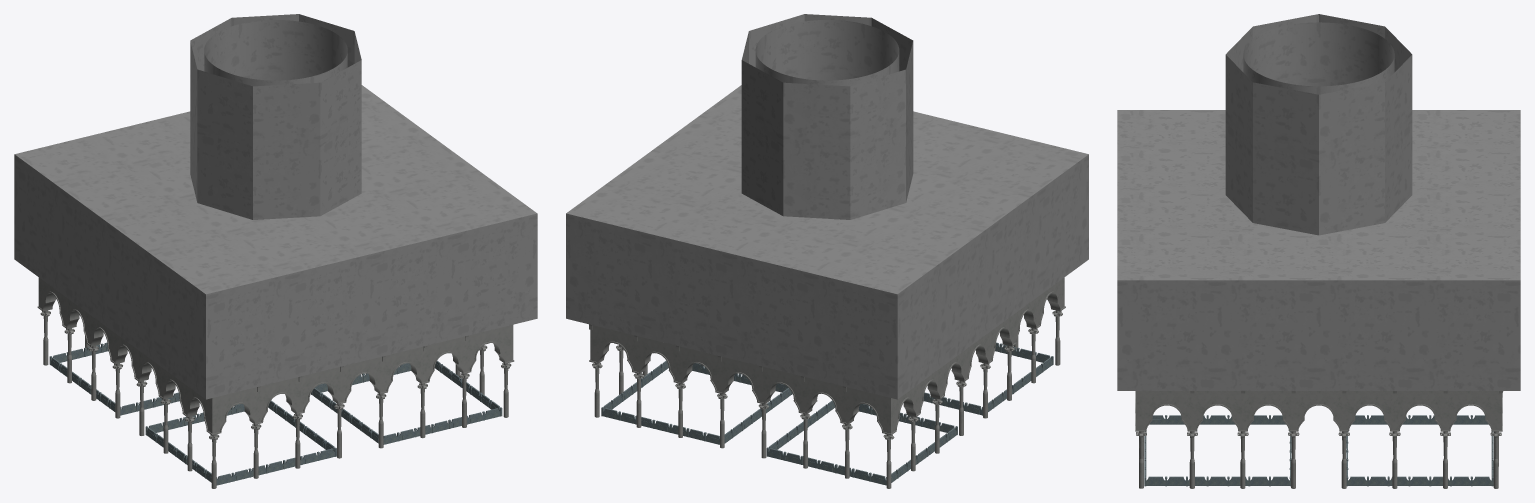
Rendered from FinalMap_Center.FBX.
3 renders of one model, left to right at view 1: azimuth 30°, elevation 25°; view 2: azimuth 150°, elevation 25°; view 3: azimuth 270°, elevation 25°, orthographic. The views are drawn at different scales.
Visible parts, largest first — view 1: FinalMap_Center; view 2: FinalMap_Center; view 3: FinalMap_Center.
Boxes of the visible parts, x1,y1,x2,y2 form: FinalMap_Center: (14,14,537,488); FinalMap_Center: (566,14,1088,488); FinalMap_Center: (1117,14,1520,488).
Bounding box in the file's own units: 1375 × 1349 × 1375.
5 materials, 5 textured.
